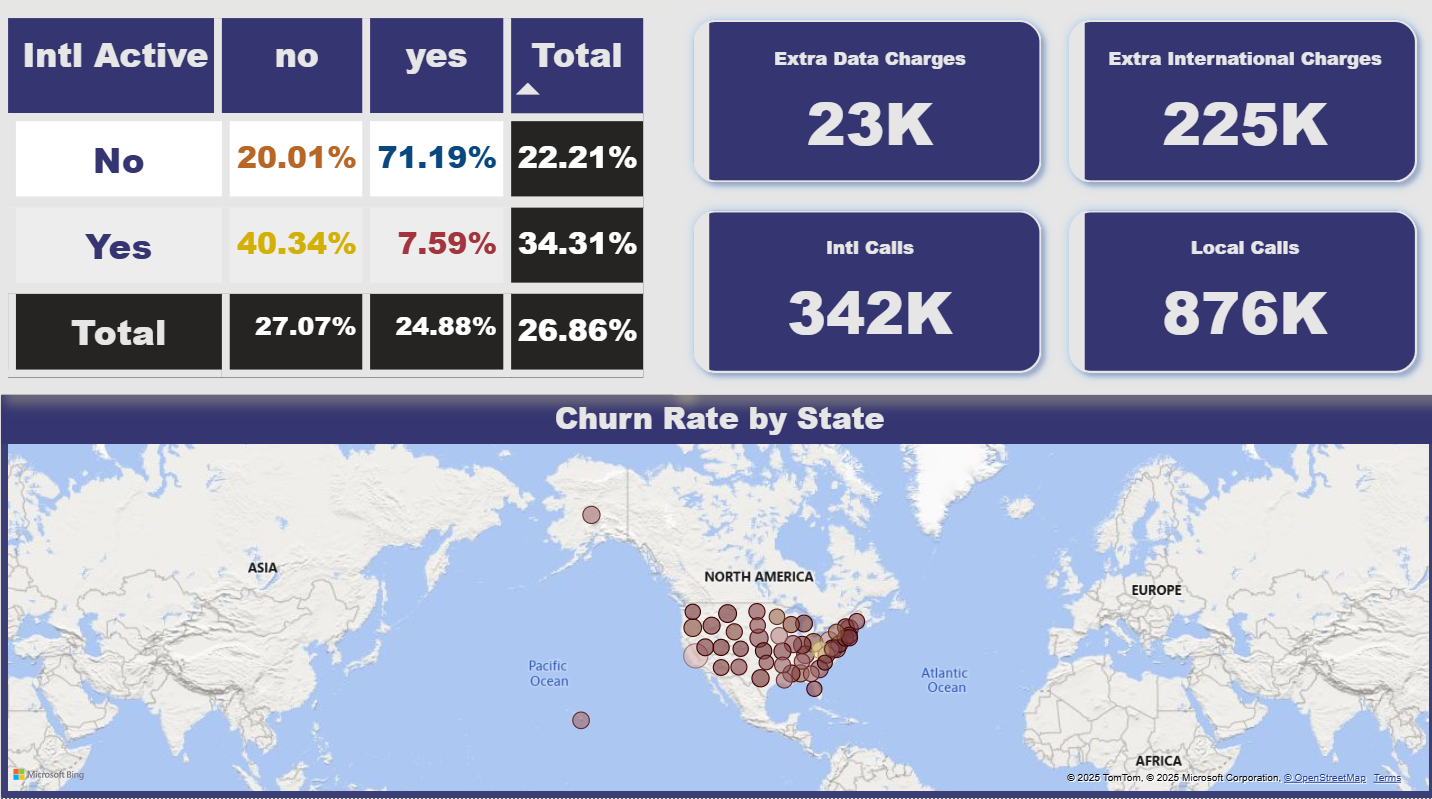

What the dashboard file says about the page in this screenshot:
{"tool":"powerbi","page":{"name":"International plan","canvas":[1280,720],"ordinal":2},"visuals":[{"type":"map","title":"Churn Rate by State","fields":{"Category":["Databel - Data.State"],"Size":["Databel - Data (2).Churn Rate"]},"box":[0,359.5,1280,360.7],"z":0},{"type":"pivotTable","fields":{"Rows":["Databel - Data.Intl Active"],"Columns":["Databel - Data.Intl Plan"],"Values":["Databel - Data (2).Churn Rate"]},"box":[0,18.1,609.3,341.4],"z":1000},{"type":"cardVisual","fields":{"Data":["Sum(Databel - Data.Extra Data Charges)","Sum(Databel - Data.Extra International Charges)","Sum(Databel - Data.Intl Calls)","Sum(Databel - Data.Local Calls)"]},"box":[599.6,8.4,680.4,351.1],"z":2000}]}

Visuals, with their boxes in screenshot pixels (x1, y1, x2, y2), scaled from the page's 1280x720 canvas onto the 1432x799 screenshot:
"Churn Rate by State" map: (0, 399, 1431, 798)
pivotTable - Databel - Data.Intl Active x Databel - Data.Intl Plan: (0, 20, 682, 399)
cardVisual - Sum(Databel - Data.Extra Data Charges) x Sum(Databel - Data.Extra International Charges): (671, 9, 1431, 399)
